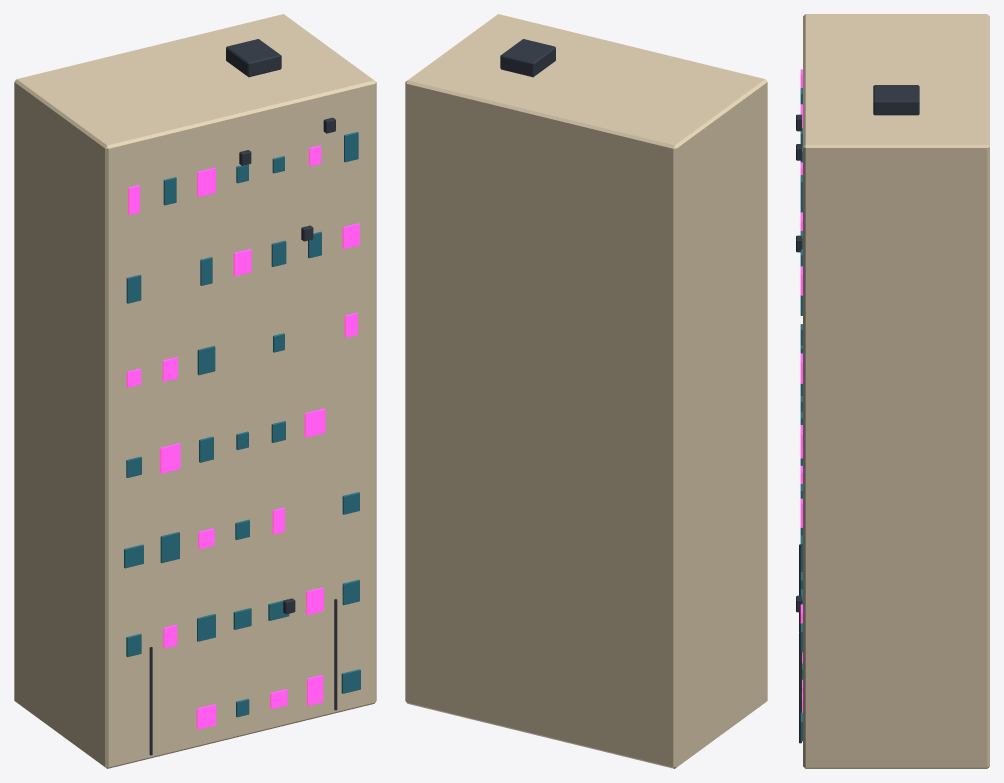
File: building_029_seed11.glb
3 renders of one model, left to right at view 1: azimuth 30°, elevation 25°; view 2: azimuth 150°, elevation 25°; view 3: azimuth 270°, elevation 25°, orthographic.
Visible parts, largest first — view 1: building_029_seed11; view 2: building_029_seed11; view 3: building_029_seed11.
Boxes of the visible parts, box(x1,y1,x2,y2) form: building_029_seed11: box(14, 14, 376, 768); building_029_seed11: box(405, 14, 767, 768); building_029_seed11: box(796, 14, 989, 768).
Size of the model in its own units: 9.56 by 21.46 by 5.89.
